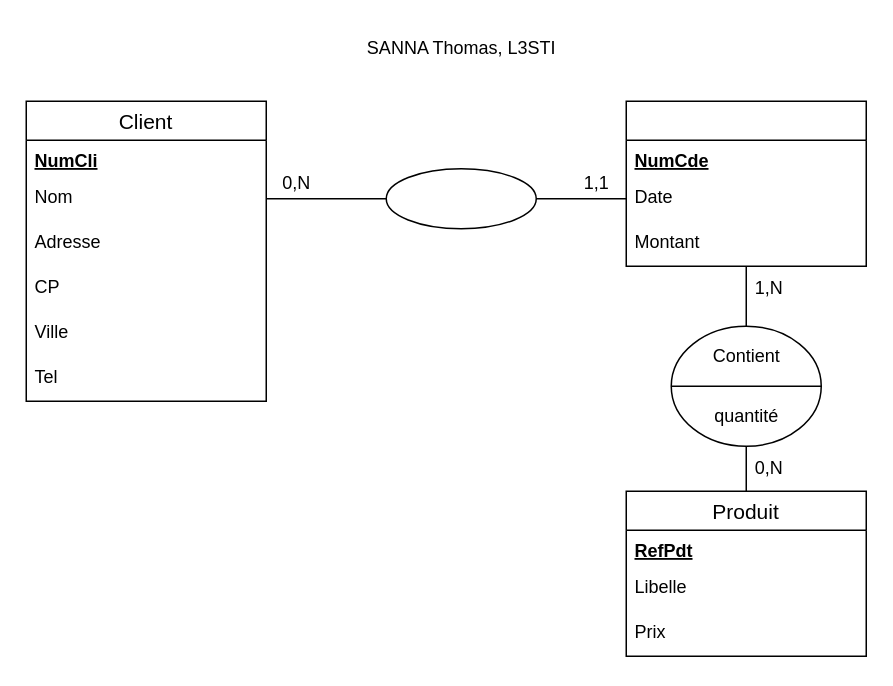
Image size: 893x686. Some labels were removed from this diagram. Each missing label, with the box of its shape:
Commande: (625, 100, 866, 266)
Effectue: (385, 167, 536, 229)
